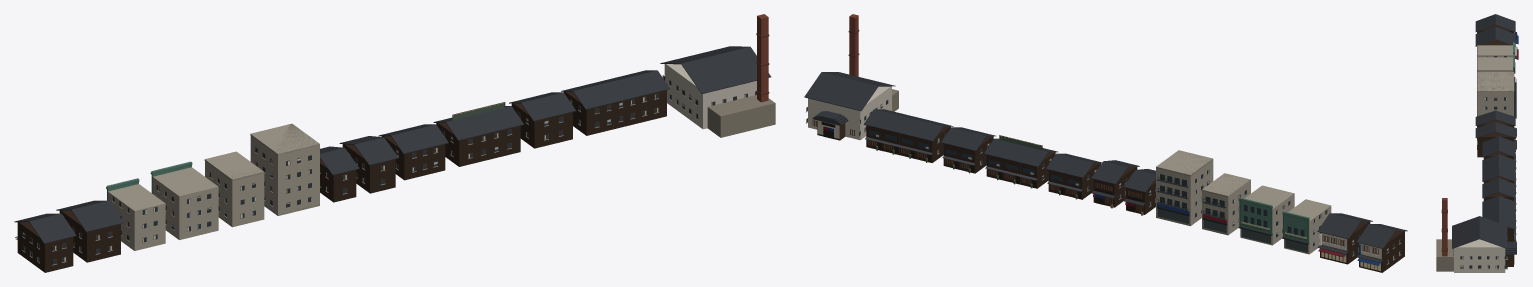
The model's file is tsuna.glb.
The picture shows the model from 3 angles, left to right: view 1: azimuth 30°, elevation 25°; view 2: azimuth 150°, elevation 25°; view 3: azimuth 270°, elevation 25°; orthographic projection. The views are drawn at different scales.
Parts seen in each view (by area): view 1: tsuna_sento_body, tsuna_shop_f_body, tsuna_naga_d_body, tsuna_naga_b_body, tsuna_shop_d_body, tsuna_shop_e_body, tsuna_shop_c_body, tsuna_shop_b_body, tsuna_shop_a_body, tsuna_naga_c_body, tsuna_naga_a_body, tsuna_shop_h_body (+1 smaller); view 2: tsuna_sento_body, tsuna_shop_f_body, tsuna_naga_d_body, tsuna_naga_b_body, tsuna_shop_d_body, tsuna_shop_e_body, tsuna_shop_b_body, tsuna_shop_c_body, tsuna_shop_a_body, tsuna_naga_a_body, tsuna_naga_c_body, tsuna_shop_h_body (+1 smaller); view 3: tsuna_sento_body, tsuna_shop_f_body, tsuna_naga_d_body, tsuna_naga_b_body, tsuna_shop_h_body, tsuna_shop_b_body, tsuna_naga_a_body, tsuna_naga_c_body, tsuna_shop_d_body, tsuna_shop_a_body, tsuna_shop_c_body, tsuna_shop_g_body (+1 smaller).
Boxes of the visible parts, x1,y1,x2,y2 form: tsuna_sento_body: [660, 14, 775, 137]; tsuna_shop_f_body: [250, 123, 319, 215]; tsuna_naga_d_body: [561, 70, 669, 135]; tsuna_naga_b_body: [433, 102, 523, 166]; tsuna_shop_d_body: [150, 161, 218, 239]; tsuna_shop_e_body: [204, 151, 264, 227]; tsuna_shop_c_body: [106, 178, 165, 250]; tsuna_shop_b_body: [56, 200, 123, 262]; tsuna_shop_a_body: [14, 213, 76, 272]; tsuna_naga_c_body: [509, 92, 575, 148]; tsuna_naga_a_body: [378, 124, 448, 180]; tsuna_shop_h_body: [339, 136, 398, 193]; tsuna_sento_body: [804, 14, 898, 140]; tsuna_shop_f_body: [1156, 150, 1213, 226]; tsuna_naga_d_body: [863, 109, 953, 162]; tsuna_naga_b_body: [984, 135, 1057, 188]; tsuna_shop_d_body: [1238, 185, 1294, 245]; tsuna_shop_e_body: [1201, 173, 1250, 235]; tsuna_shop_b_body: [1317, 213, 1372, 264]; tsuna_shop_c_body: [1282, 199, 1331, 254]; tsuna_shop_a_body: [1356, 224, 1407, 272]; tsuna_naga_a_body: [1046, 153, 1102, 199]; tsuna_naga_c_body: [941, 127, 995, 173]; tsuna_shop_h_body: [1091, 160, 1139, 208]; tsuna_sento_body: [1436, 198, 1516, 272]; tsuna_shop_f_body: [1477, 77, 1516, 118]; tsuna_naga_d_body: [1482, 196, 1516, 241]; tsuna_naga_b_body: [1482, 152, 1516, 194]; tsuna_shop_h_body: [1475, 122, 1516, 157]; tsuna_shop_b_body: [1475, 26, 1518, 59]; tsuna_naga_a_body: [1482, 136, 1516, 170]; tsuna_naga_c_body: [1482, 178, 1516, 212]; tsuna_shop_d_body: [1477, 54, 1515, 82]; tsuna_shop_a_body: [1475, 14, 1518, 44]; tsuna_shop_c_body: [1477, 42, 1515, 73]; tsuna_shop_g_body: [1475, 110, 1516, 139].
Bounding box in the file's own units: 155 × 22 × 23.3.
